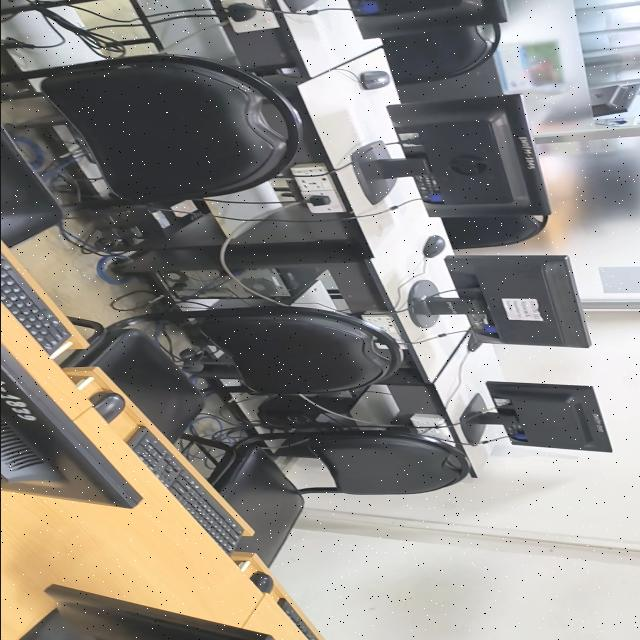Chair: (59, 303, 402, 442), (0, 53, 301, 205), (213, 432, 466, 566), (0, 123, 63, 248), (382, 26, 487, 84), (442, 215, 545, 249)
Cpu: (155, 269, 294, 309)
Keyboard: (126, 426, 243, 554), (0, 251, 72, 358), (277, 599, 318, 640)
Monitor: (351, 95, 549, 217), (0, 343, 140, 508), (407, 256, 590, 347), (18, 585, 274, 640), (460, 381, 611, 452), (348, 0, 507, 39), (590, 83, 640, 117), (281, 0, 332, 15)
Mouse: (92, 392, 124, 423), (360, 71, 389, 90), (422, 235, 445, 258), (250, 571, 272, 593)
